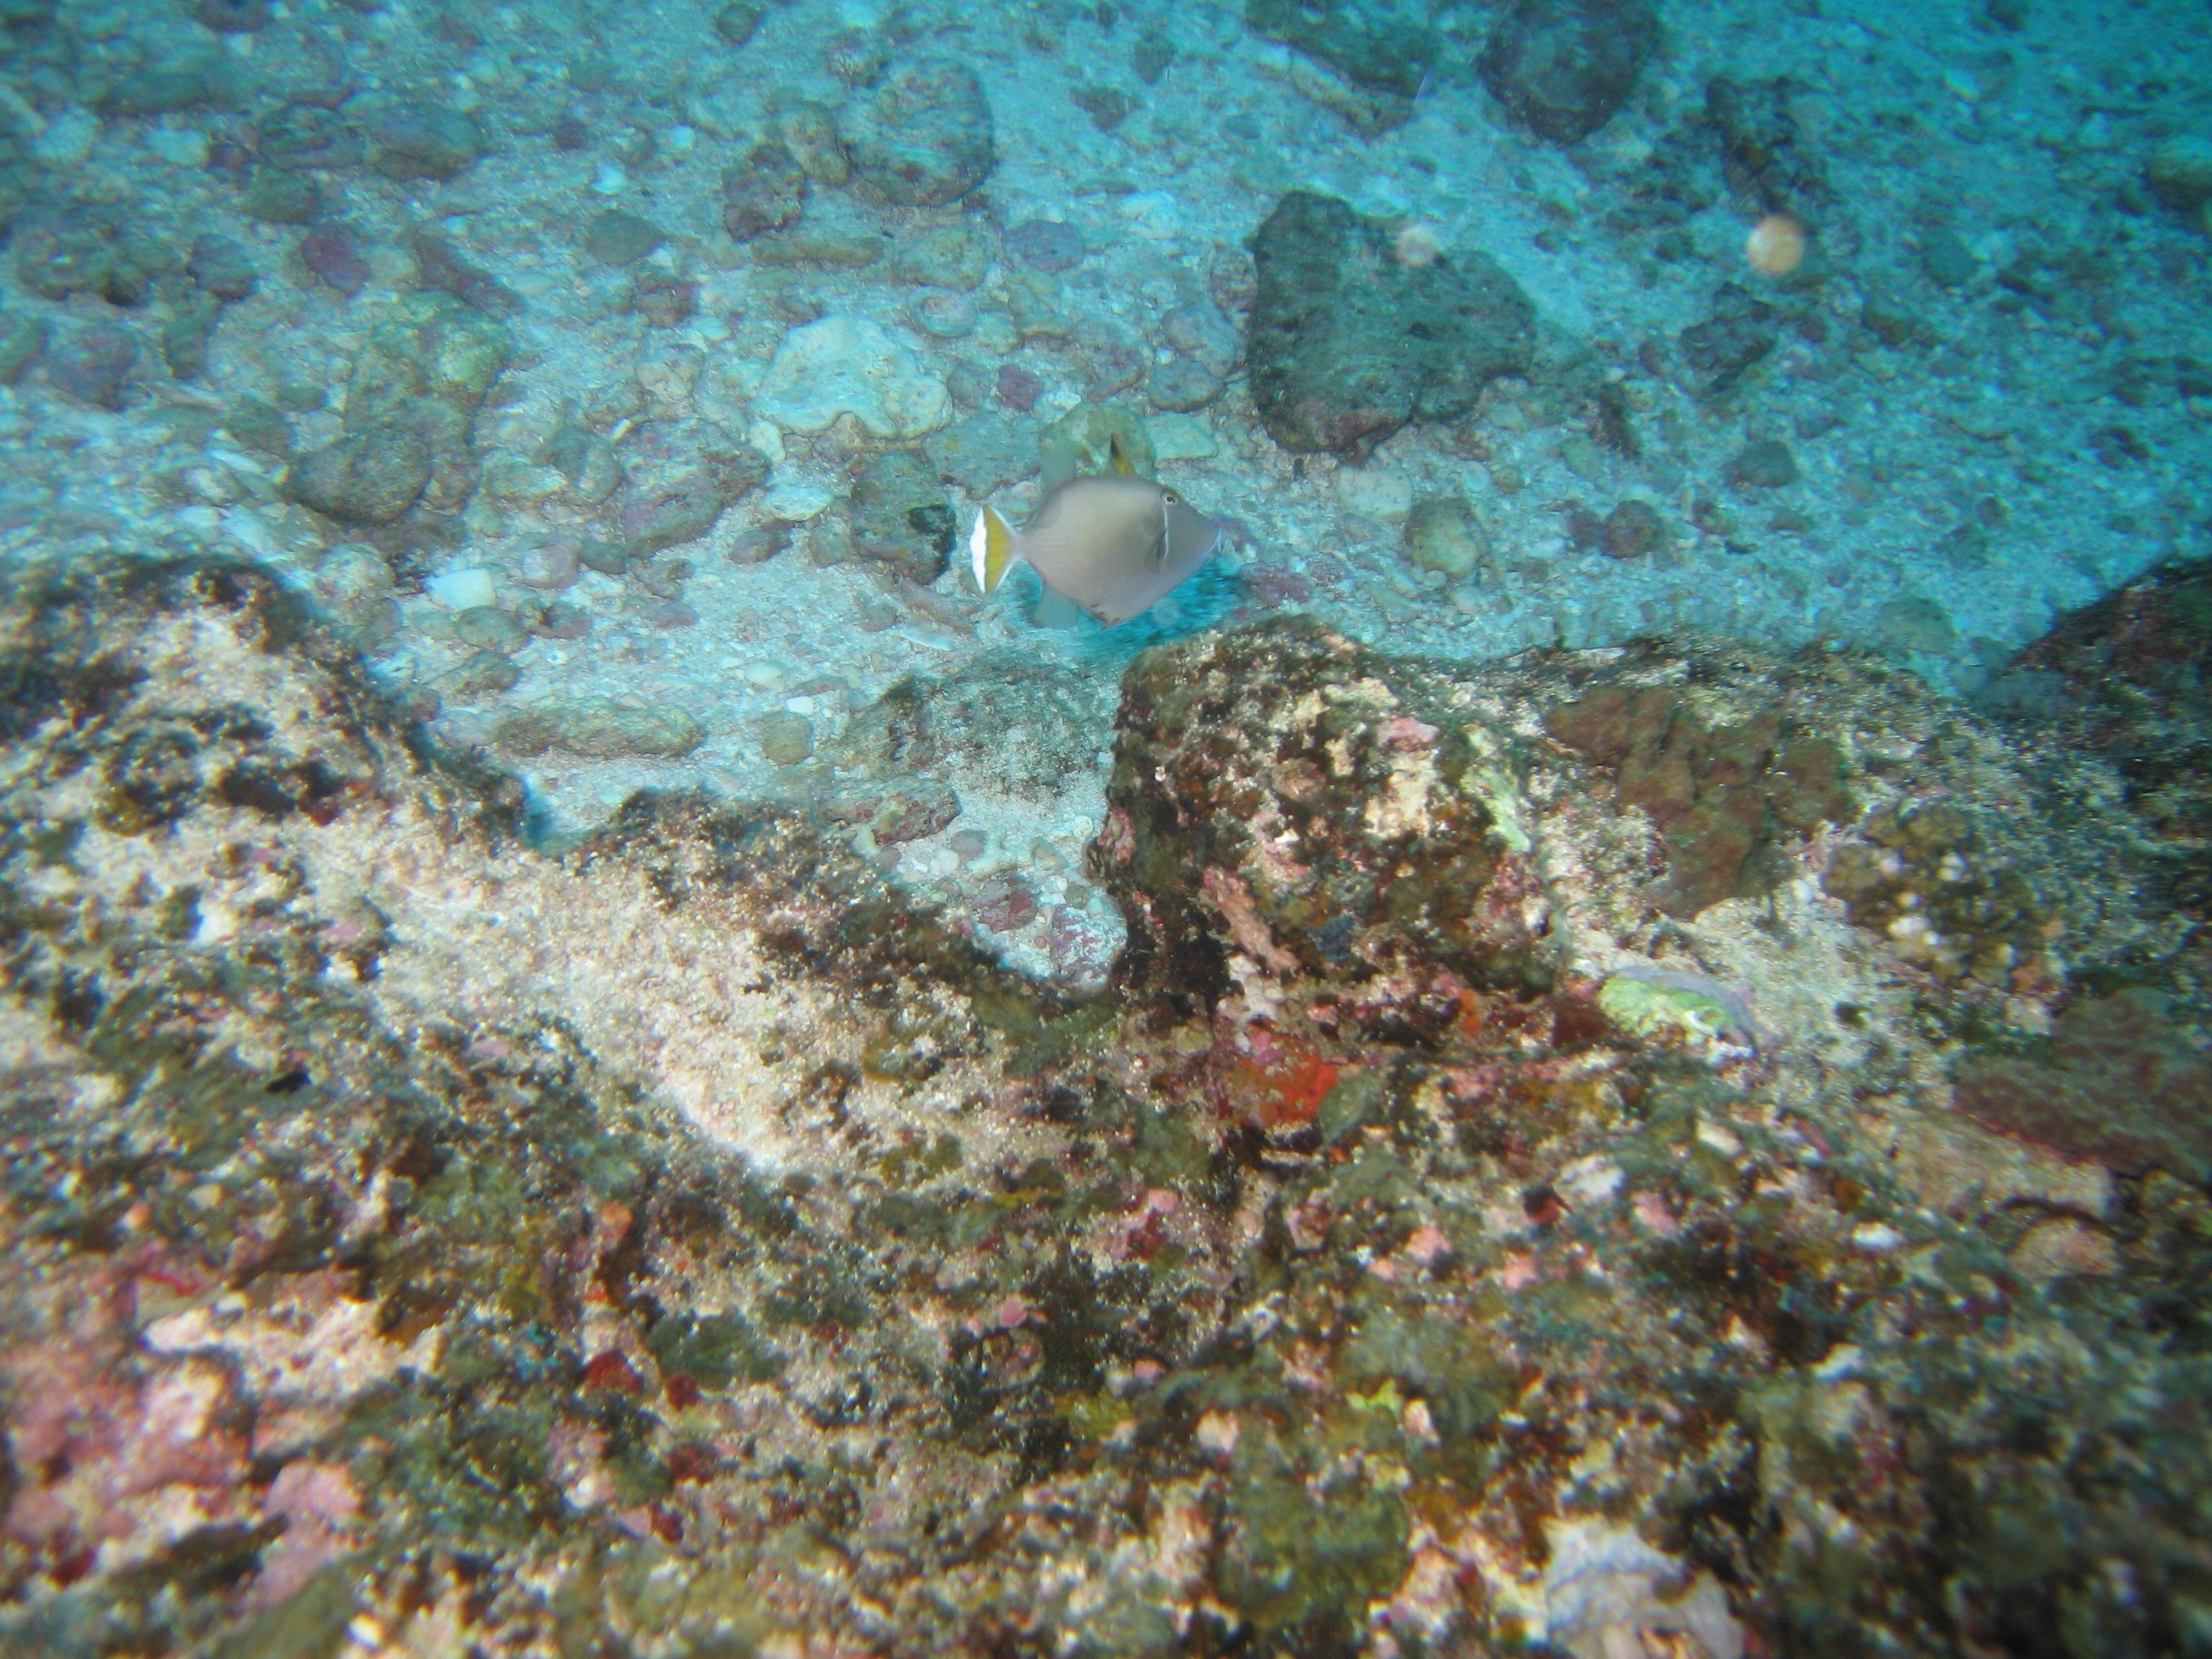Fish: (939, 444, 1261, 650)
